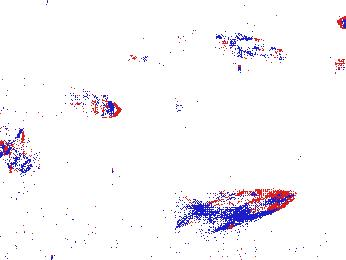X-ray fish: (139, 16, 209, 54), (72, 87, 125, 120), (1, 139, 42, 170)
red belly glassfish: (126, 51, 170, 73)
redtail glassfish: (203, 189, 305, 236), (183, 184, 284, 220), (217, 32, 290, 63)
